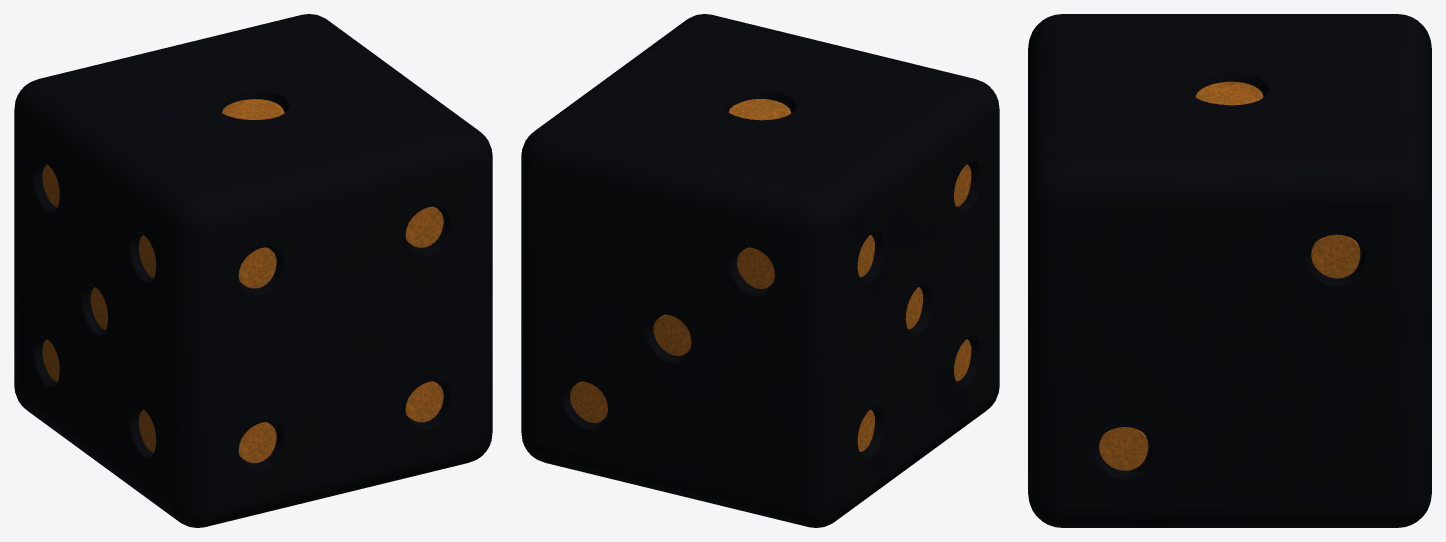
The model's file is die.glb.
The picture shows the model from 3 angles, left to right: view 1: azimuth 30°, elevation 25°; view 2: azimuth 150°, elevation 25°; view 3: azimuth 270°, elevation 25°; orthographic projection. The views are drawn at different scales.
Parts seen in each view (by area): view 1: MM_Die_guild-die; view 2: MM_Die_guild-die; view 3: MM_Die_guild-die.
Part boxes in pixels (left/top/right/bottom): MM_Die_guild-die: left=14, top=14, right=492, bottom=527; MM_Die_guild-die: left=521, top=14, right=999, bottom=527; MM_Die_guild-die: left=1028, top=14, right=1431, bottom=527.
Bounding box in the file's own units: 0.0295 × 0.0296 × 0.0295.
Materials: 2 (2 with a texture image).
